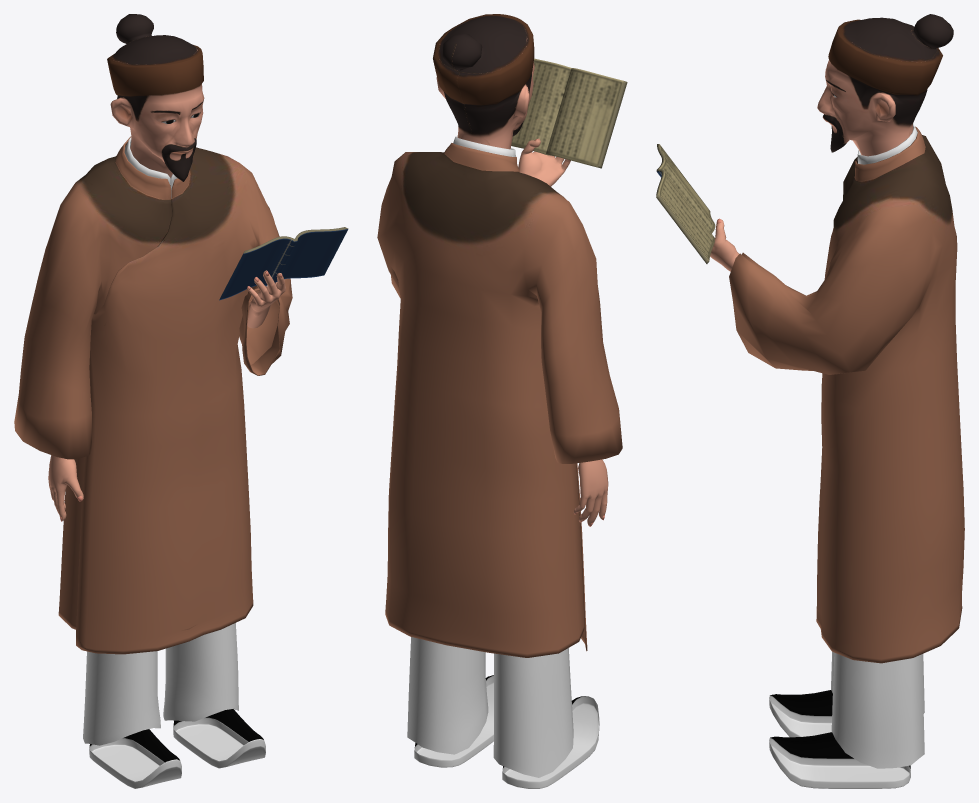
The picture shows the model from 3 angles, left to right: view 1: azimuth 30°, elevation 25°; view 2: azimuth 150°, elevation 25°; view 3: azimuth 270°, elevation 25°; orthographic projection. The views are drawn at different scales.
Visible parts, largest first — view 1: Circle.004, Circle.005, BSurfaceMesh, Circle.006, BézierCurve, Hand; view 2: Circle.004, Circle.005, BSurfaceMesh, BézierCurve, Circle.006, Hand, Circle.001; view 3: Circle.004, BSurfaceMesh, Circle.005, Circle.006, BézierCurve, Hand, Circle.001.
Boxes of the visible parts, left/top/right/bottom form: Circle.004: left=14, top=136, right=292, bottom=654; Circle.005: left=83, top=623, right=238, bottom=745; BSurfaceMesh: left=107, top=14, right=204, bottom=181; Circle.006: left=89, top=709, right=265, bottom=788; BézierCurve: left=219, top=227, right=348, bottom=300; Hand: left=48, top=270, right=285, bottom=521; Circle.004: left=377, top=143, right=622, bottom=657; Circle.005: left=407, top=637, right=573, bottom=777; BSurfaceMesh: left=433, top=14, right=534, bottom=149; BézierCurve: left=511, top=58, right=627, bottom=168; Circle.006: left=414, top=675, right=599, bottom=788; Hand: left=518, top=138, right=608, bottom=526; Circle.001: left=453, top=136, right=515, bottom=156; Circle.004: left=729, top=126, right=964, bottom=663; BSurfaceMesh: left=817, top=14, right=953, bottom=156; Circle.005: left=831, top=652, right=924, bottom=768; Circle.006: left=769, top=690, right=910, bottom=788; BézierCurve: left=656, top=144, right=715, bottom=263; Hand: left=710, top=218, right=738, bottom=271; Circle.001: left=857, top=123, right=917, bottom=164.
Size of the model in its own units: 1.61 by 4.6 by 1.74.
11 materials, 6 textured.
